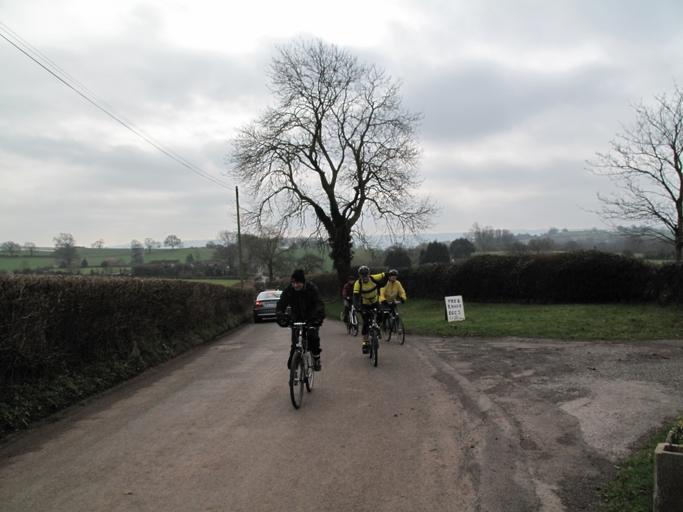non-vehicle: (282, 320, 319, 408), (357, 306, 388, 368), (381, 300, 404, 345), (339, 297, 359, 335)
